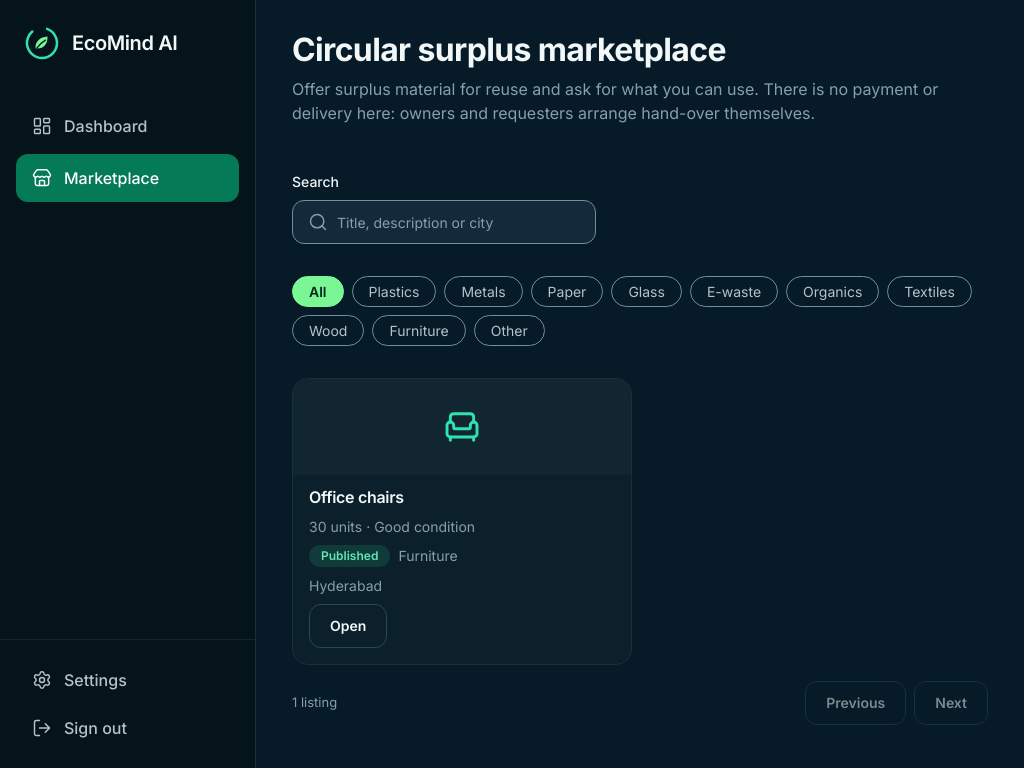
Test: marketplace › shows the server error when a request is refused
The image size is (1024, 768).
Click the button with aria-label "Open listing: Office chairs" at (348, 626), box [309, 604, 387, 648]
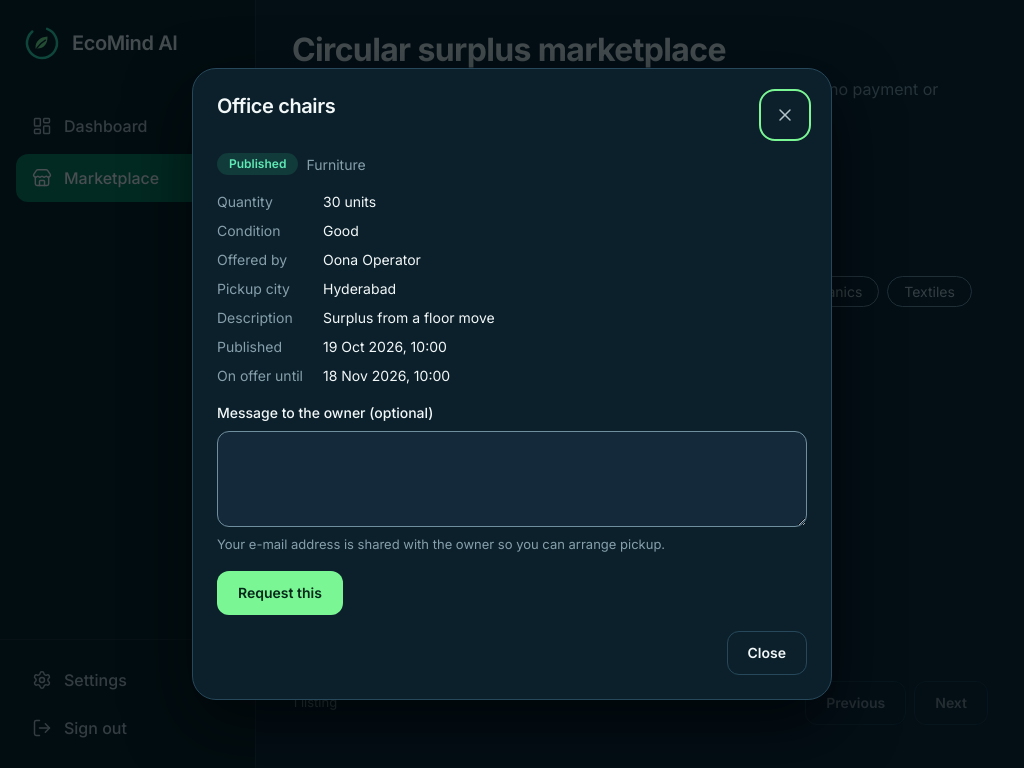
Click the button "Request this" at (280, 593), box [217, 571, 343, 615]
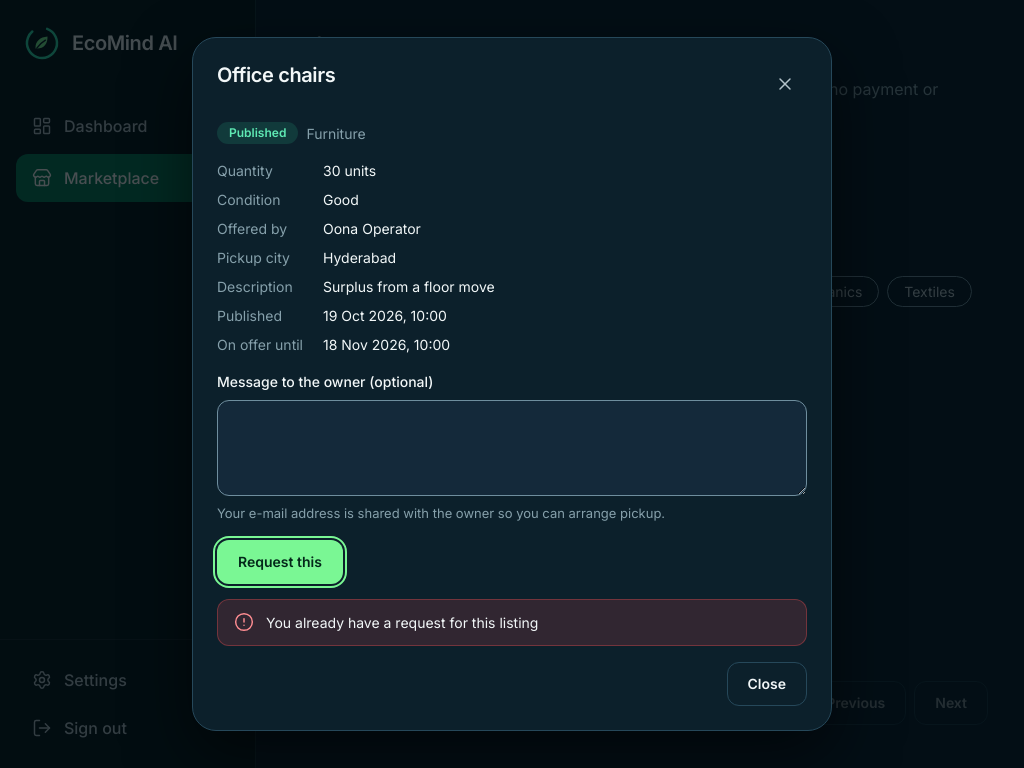
expect the text "You already have a request for this listing" is shown: met, box [266, 612, 538, 633]
